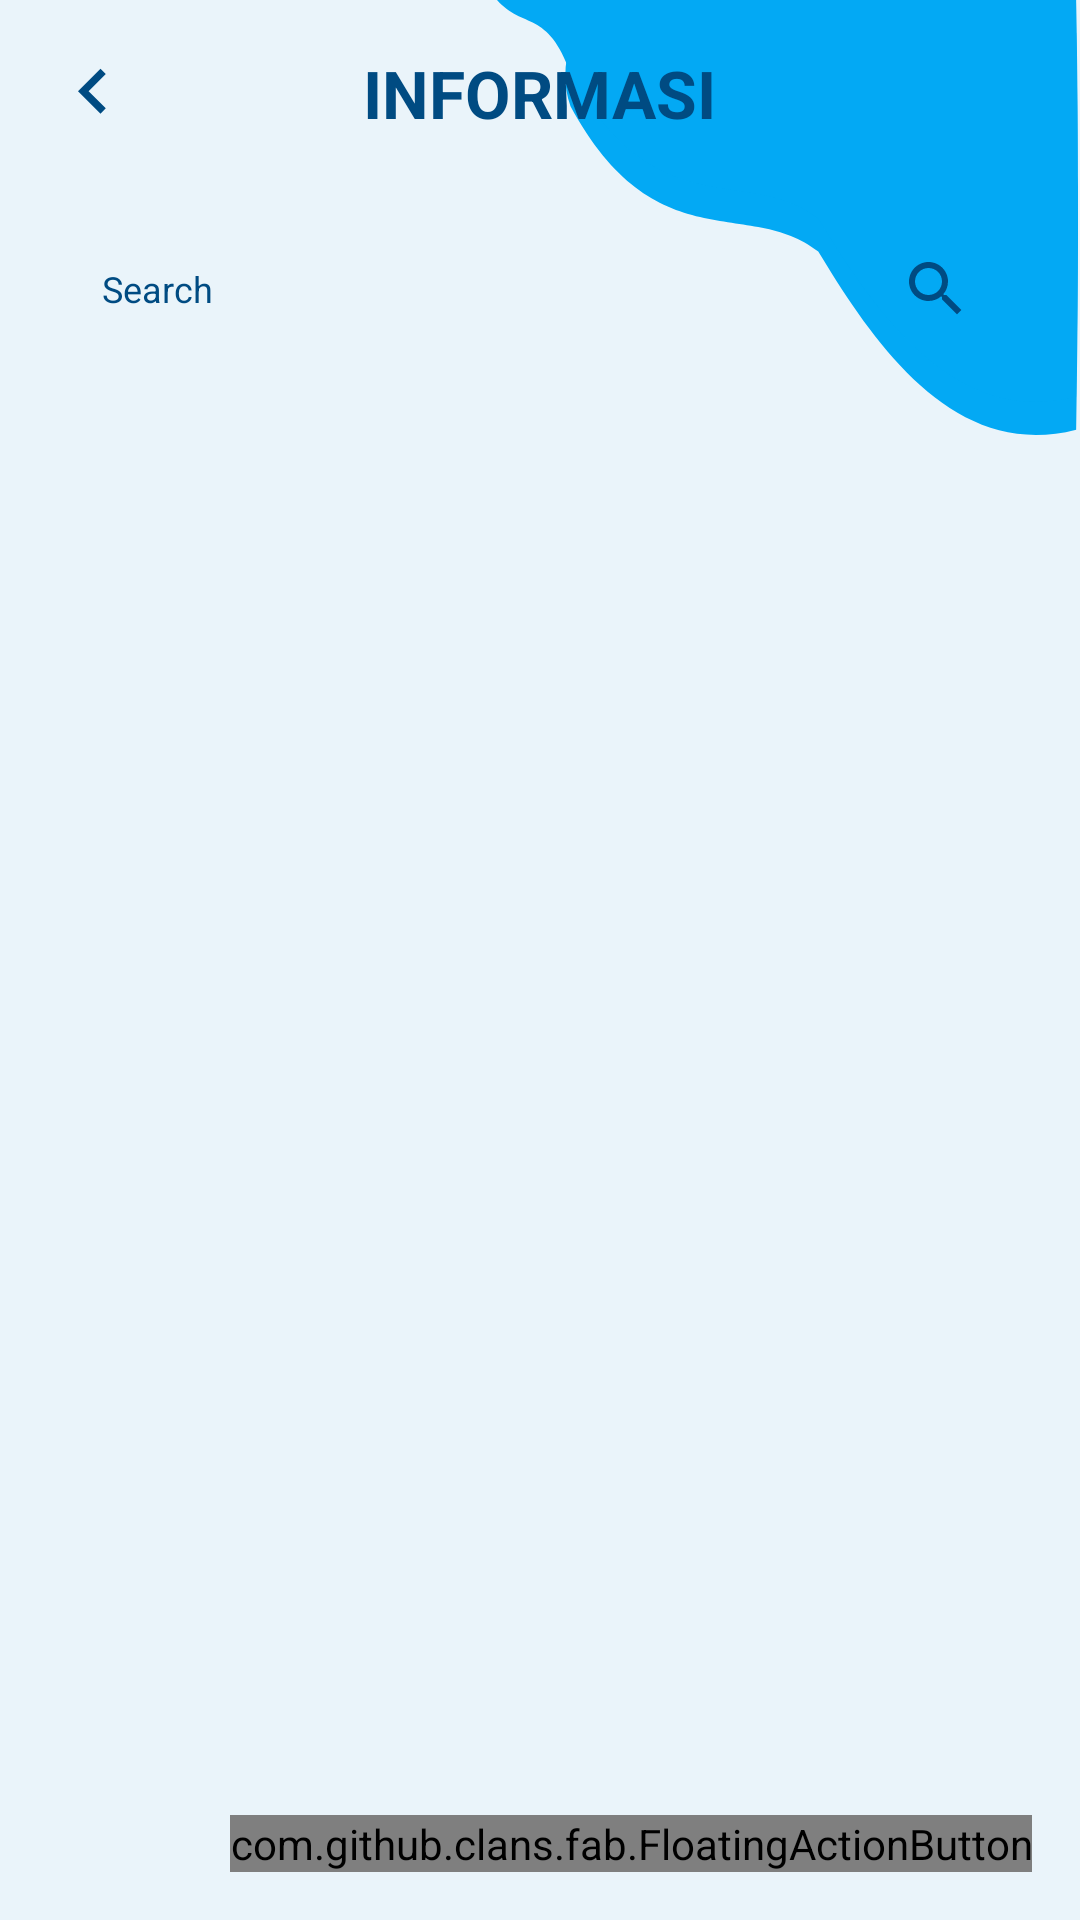

Screen size 1080*1920. Icon name, then its box in pixels as (x1, y1, x2, y2):
keyboard arrow left: (78, 69, 106, 114)
search: (909, 262, 961, 314)
